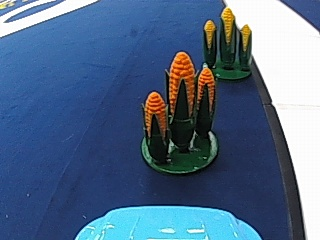corn: (139, 48, 221, 175), (199, 7, 255, 79), (138, 87, 182, 172)
